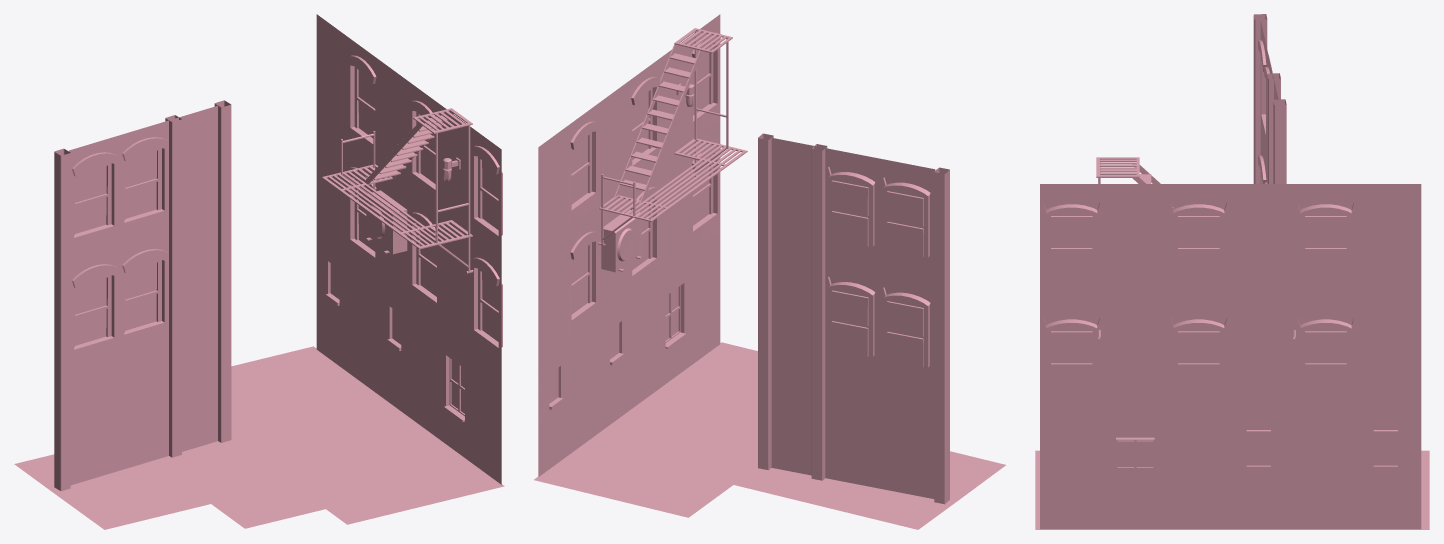
The model's file is AlleyStructureSide.fbx.
The picture shows the model from 3 angles, left to right: view 1: azimuth 30°, elevation 25°; view 2: azimuth 150°, elevation 25°; view 3: azimuth 270°, elevation 25°; orthographic projection. The views are drawn at different scales.
Parts seen in each view (by area): view 1: AlleyStructureSide; view 2: AlleyStructureSide; view 3: AlleyStructureSide.
Boxes of the visible parts, x1=… form: AlleyStructureSide: x1=14, y1=14, x2=504, y2=529; AlleyStructureSide: x1=534, y1=14, x2=1005, y2=529; AlleyStructureSide: x1=1035, y1=14, x2=1429, y2=529.
Bounding box in the file's own units: 1342 × 1222 × 1240.
